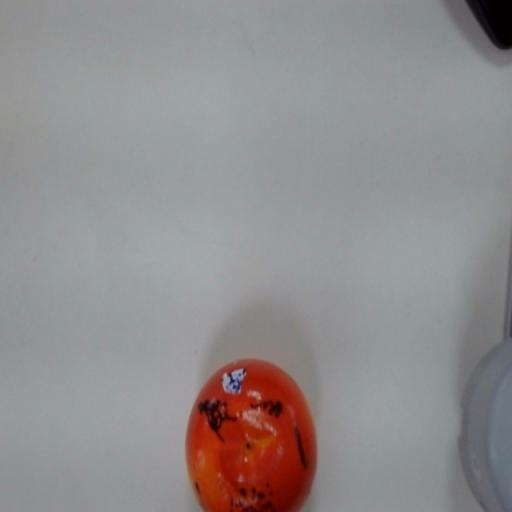Defective: (170, 353, 332, 512)
